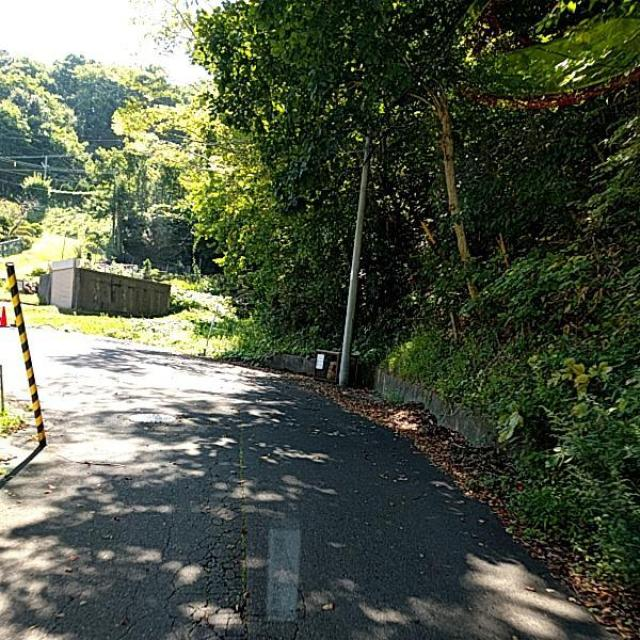Crack: (106, 360, 380, 640)
